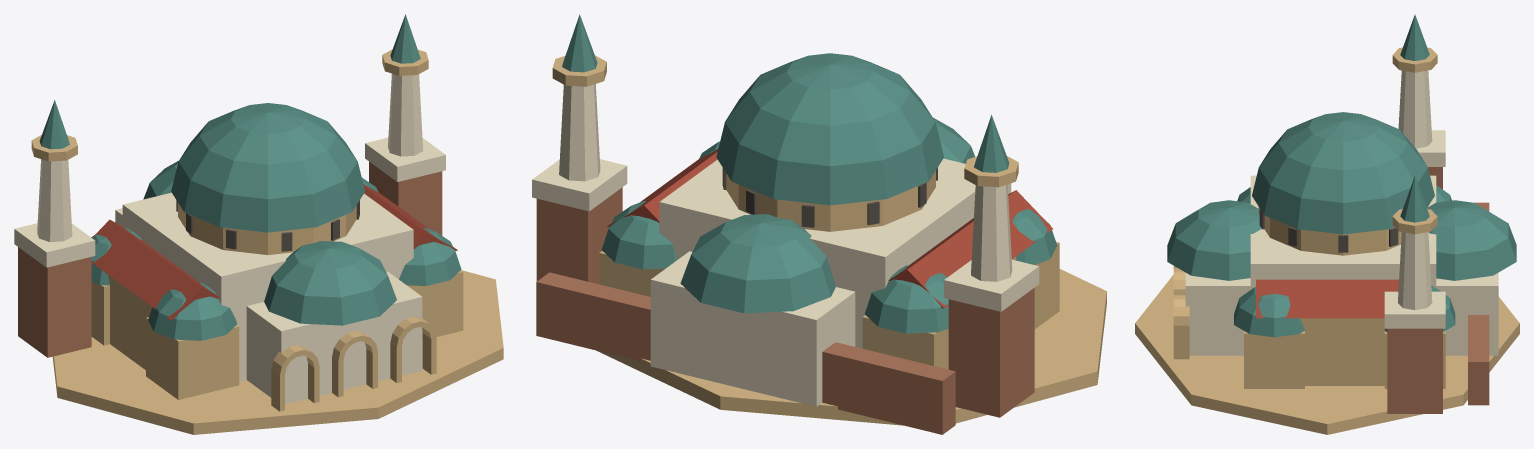
File: constantinople.glb
3 renders of one model, left to right at view 1: azimuth 30°, elevation 25°; view 2: azimuth 150°, elevation 25°; view 3: azimuth 270°, elevation 25°, orthographic. The views are drawn at different scales.
Visible parts, largest first — view 1: constantinople_sandstone, constantinople_teal, constantinople_cream, constantinople_brick, constantinople_roof_red, constantinople_deep_shadow; view 2: constantinople_teal, constantinople_cream, constantinople_brick, constantinople_sandstone, constantinople_roof_red, constantinople_deep_shadow; view 3: constantinople_teal, constantinople_sandstone, constantinople_cream, constantinople_brick, constantinople_roof_red, constantinople_deep_shadow.
Part boxes in pixels (bbox=[...]): constantinople_sandstone: bbox=[31, 49, 503, 434]; constantinople_teal: bbox=[39, 14, 461, 340]; constantinople_cream: bbox=[14, 73, 445, 404]; constantinople_brick: bbox=[18, 161, 442, 357]; constantinople_roof_red: bbox=[91, 184, 457, 320]; constantinople_deep_shadow: bbox=[176, 200, 359, 251]; constantinople_teal: bbox=[562, 14, 1057, 333]; constantinople_cream: bbox=[532, 84, 1039, 406]; constantinople_brick: bbox=[536, 187, 1034, 434]; constantinople_sandstone: bbox=[552, 55, 1106, 425]; constantinople_roof_red: bbox=[607, 149, 1052, 308]; constantinople_deep_shadow: bbox=[722, 167, 937, 227]; constantinople_teal: bbox=[1167, 14, 1516, 337]; constantinople_sandstone: bbox=[1135, 47, 1519, 434]; constantinople_cream: bbox=[1185, 70, 1498, 355]; constantinople_brick: bbox=[1387, 167, 1489, 413]; constantinople_roof_red: bbox=[1256, 279, 1398, 318]; constantinople_deep_shadow: bbox=[1259, 209, 1398, 252].
Size of the model in its own units: 2.1 by 1.16 by 1.69.
